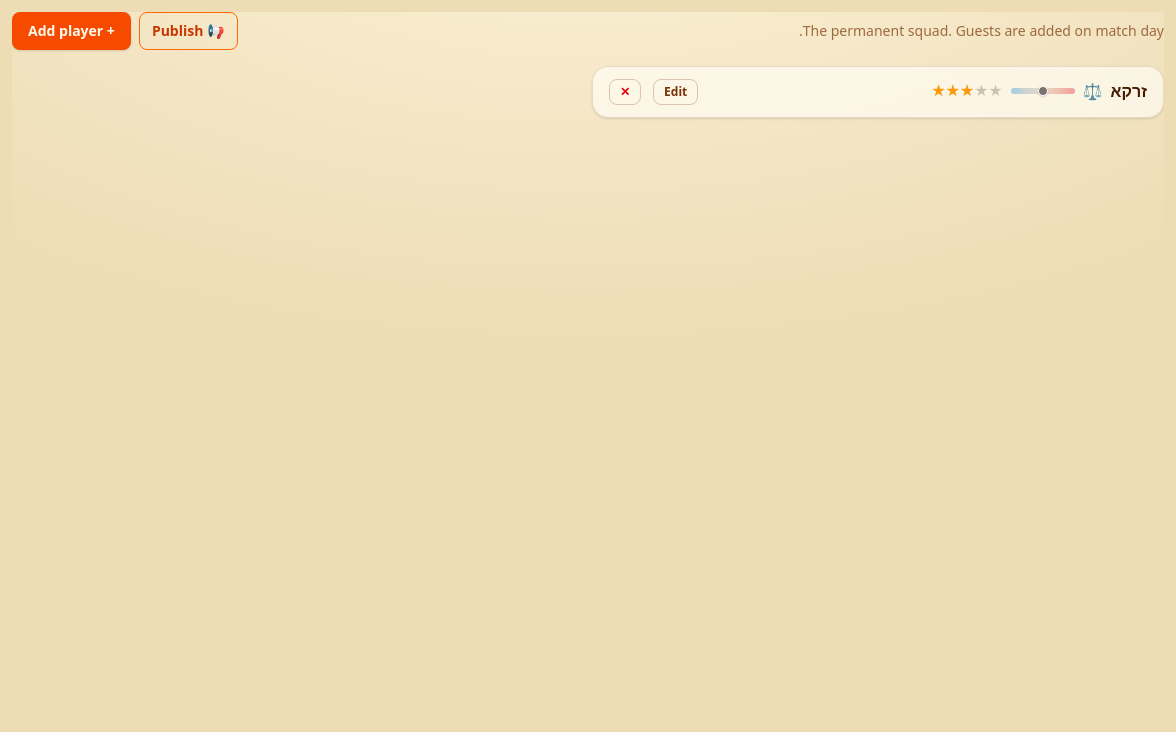
Test case: renaming a promoted guest › says so before the save rather than after it
This screenshot has width=1176, height=732.
Click the button "Edit": coordinates (676, 92) [653,79,698,105]
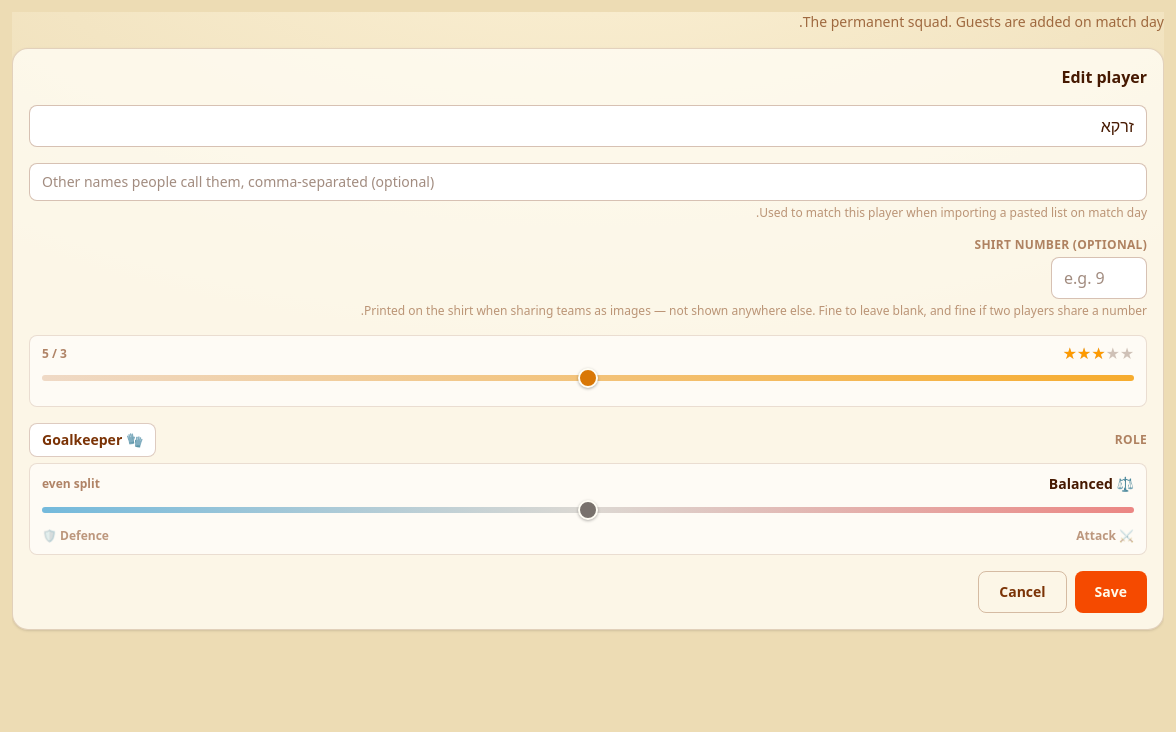
Expected: the text "kept as an alias" is not shown
Replace the text in the field with placeholder "Name (עברית or English)" with "זרקא כהן": coordinates (588, 126) [29,105,1147,147]
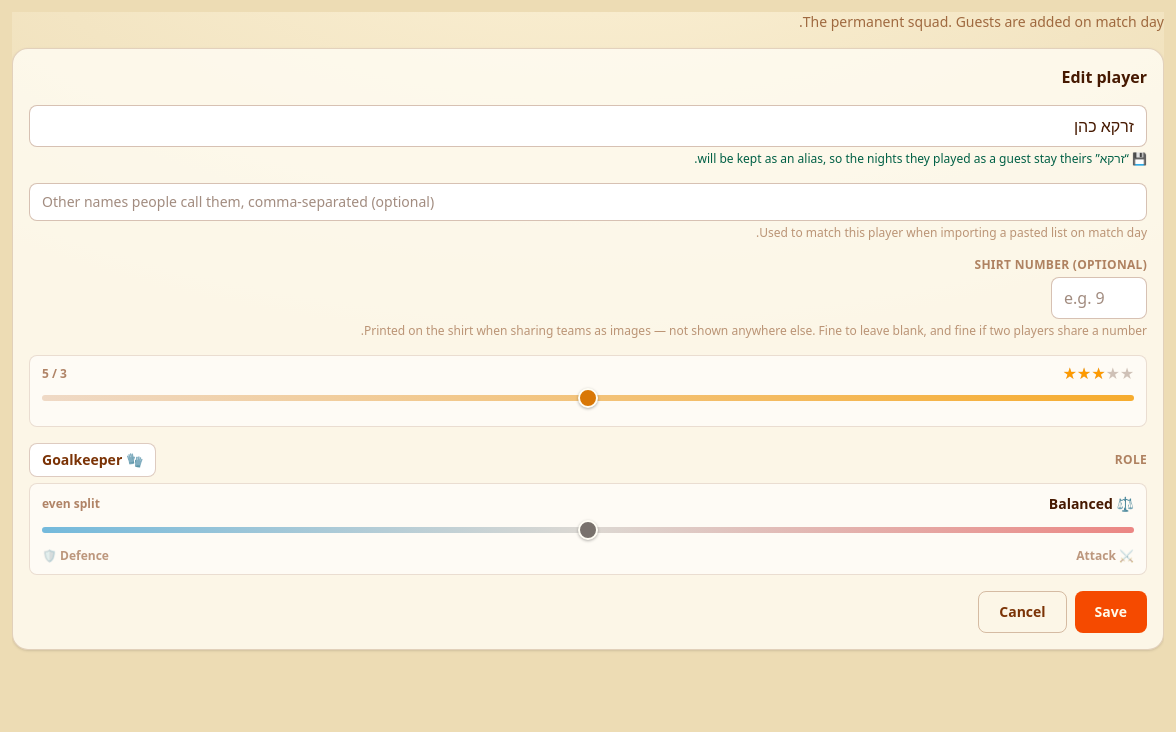
Result: the text "kept as an alias" is shown at [694,150,1129,167]
